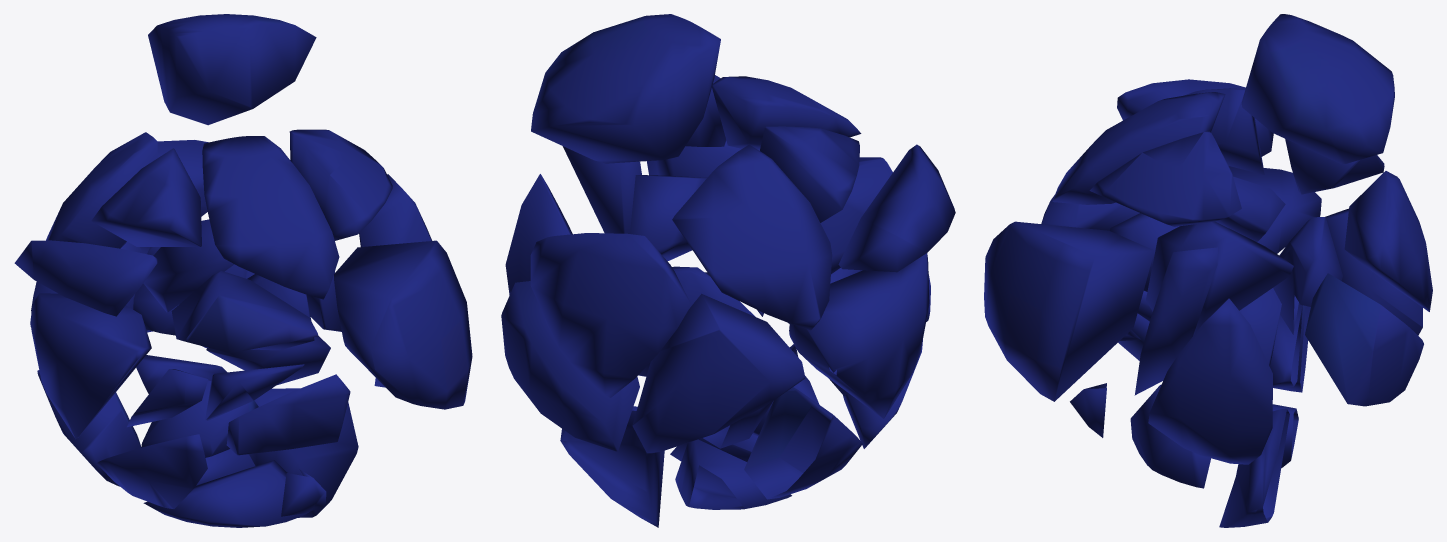
File: abstractball6.glb
3 views of the same model, side by side, from view 1: azimuth 30°, elevation 25°; view 2: azimuth 150°, elevation 25°; view 3: azimuth 270°, elevation 25° (orthographic). The views are drawn at different scales.
Parts seen in each view (by area): view 1: Voronoi_Fracture.6; view 2: Voronoi_Fracture.6; view 3: Voronoi_Fracture.6.
Boxes of the visible parts, x1=… form: Voronoi_Fracture.6: x1=14, y1=14, x2=472, y2=527; Voronoi_Fracture.6: x1=501, y1=14, x2=955, y2=527; Voronoi_Fracture.6: x1=984, y1=14, x2=1432, y2=527.
Size of what is drawn, in the model's own units: 3.27 by 3.96 by 3.4.
Materials: 1 (1 with a texture image).
